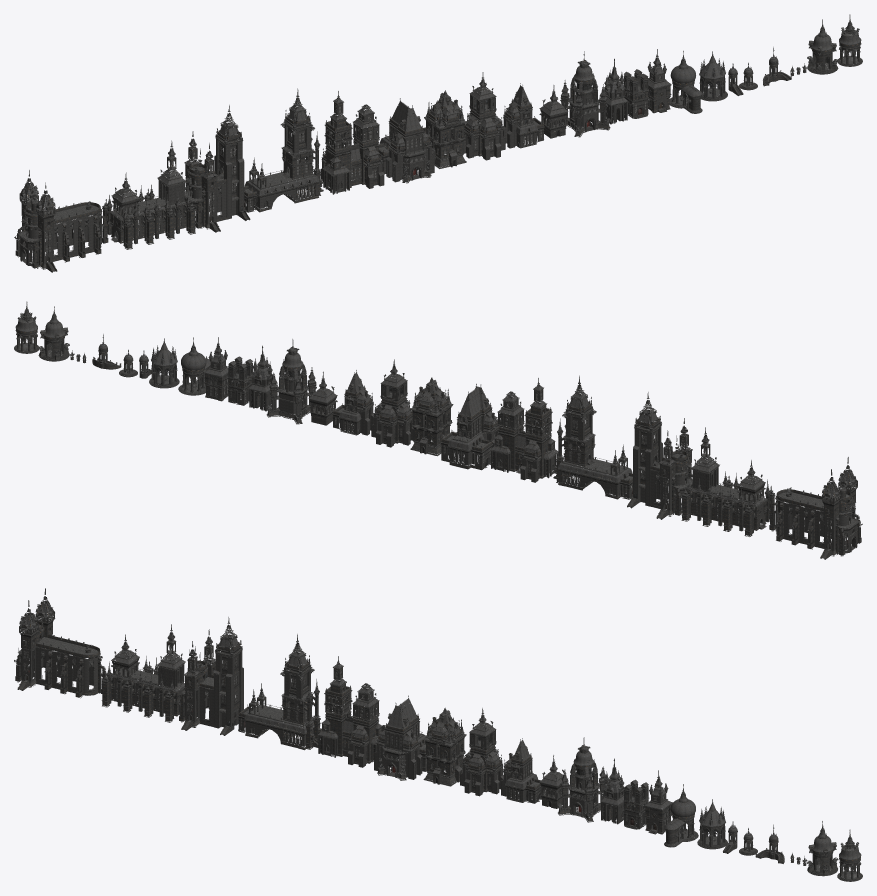
The model's file is kit_buildings.glb.
3 views of the same model, one above another, from view 1: azimuth 30°, elevation 25°; view 2: azimuth 150°, elevation 25°; view 3: azimuth 330°, elevation 25° (orthographic).
Parts seen in each view (by area): view 1: SM_Gothic_building_01, SM_Gothic_building_02, SM_Gothic_building_03, SM_Gothic_building_04, SM_Gothic_building_05, SM_Gothic_building_06, SM_Gothic_building_11, SM_Gothic_building_08, SM_Gothic_building_07, SM_Gothic_building_09, SM_Gothic_pavilion_01, SM_Gothic_building_13 (+6 smaller); view 2: SM_Gothic_building_01, SM_Gothic_building_02, SM_Gothic_building_03, SM_Gothic_building_04, SM_Gothic_building_05, SM_Gothic_building_06, SM_Gothic_building_11, SM_Gothic_building_08, SM_Gothic_building_07, SM_Gothic_building_09, SM_Gothic_pavilion_01, SM_Gothic_pavilion_02 (+6 smaller); view 3: SM_Gothic_building_01, SM_Gothic_building_03, SM_Gothic_building_04, SM_Gothic_building_02, SM_Gothic_building_05, SM_Gothic_building_06, SM_Gothic_building_07, SM_Gothic_building_08, SM_Gothic_building_11, SM_Gothic_building_09, SM_Gothic_pavilion_01, SM_Gothic_building_14 (+6 smaller).
Boxes of the visible parts, x1=… form: SM_Gothic_building_01: x1=14, y1=170, x2=109, y2=272; SM_Gothic_building_02: x1=102, y1=140, x2=195, y2=249; SM_Gothic_building_03: x1=181, y1=105, x2=250, y2=232; SM_Gothic_building_04: x1=244, y1=88, x2=323, y2=212; SM_Gothic_building_05: x1=320, y1=91, x2=384, y2=194; SM_Gothic_building_06: x1=378, y1=98, x2=434, y2=183; SM_Gothic_building_11: x1=560, y1=51, x2=611, y2=137; SM_Gothic_building_08: x1=463, y1=72, x2=505, y2=160; SM_Gothic_building_07: x1=424, y1=90, x2=466, y2=168; SM_Gothic_building_09: x1=503, y1=83, x2=544, y2=148; SM_Gothic_pavilion_01: x1=669, y1=50, x2=702, y2=113; SM_Gothic_building_13: x1=623, y1=69, x2=649, y2=118; SM_Gothic_building_01: x1=768, y1=457, x2=862, y2=559; SM_Gothic_building_02: x1=681, y1=427, x2=775, y2=536; SM_Gothic_building_03: x1=627, y1=392, x2=696, y2=519; SM_Gothic_building_04: x1=553, y1=375, x2=632, y2=499; SM_Gothic_building_05: x1=490, y1=378, x2=558, y2=482; SM_Gothic_building_06: x1=440, y1=383, x2=498, y2=470; SM_Gothic_building_11: x1=266, y1=339, x2=316, y2=424; SM_Gothic_building_08: x1=371, y1=359, x2=413, y2=447; SM_Gothic_building_07: x1=410, y1=377, x2=453, y2=456; SM_Gothic_building_09: x1=332, y1=370, x2=373, y2=435; SM_Gothic_pavilion_01: x1=178, y1=337, x2=210, y2=395; SM_Gothic_pavilion_02: x1=149, y1=338, x2=179, y2=388; SM_Gothic_building_01: x1=14, y1=588, x2=106, y2=698; SM_Gothic_building_03: x1=177, y1=617, x2=243, y2=735; SM_Gothic_building_04: x1=238, y1=634, x2=321, y2=750; SM_Gothic_building_02: x1=101, y1=624, x2=188, y2=722; SM_Gothic_building_05: x1=317, y1=656, x2=382, y2=767; SM_Gothic_building_06: x1=374, y1=695, x2=426, y2=780; SM_Gothic_building_07: x1=423, y1=707, x2=466, y2=786; SM_Gothic_building_08: x1=460, y1=708, x2=503, y2=796; SM_Gothic_building_11: x1=557, y1=737, x2=605, y2=822; SM_Gothic_building_09: x1=501, y1=738, x2=543, y2=803; SM_Gothic_pavilion_01: x1=664, y1=784, x2=698, y2=847; SM_Gothic_building_14: x1=644, y1=770, x2=672, y2=834.
Size of the model in its own units: 431 by 54.1 by 30.34.
Materials: 4 (4 with a texture image).
